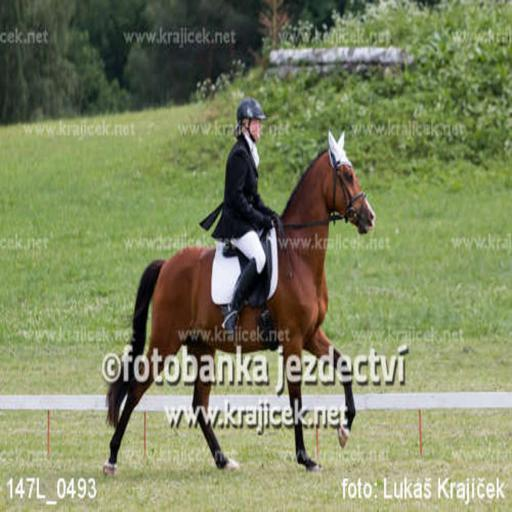Horse: (103, 129, 375, 480)
